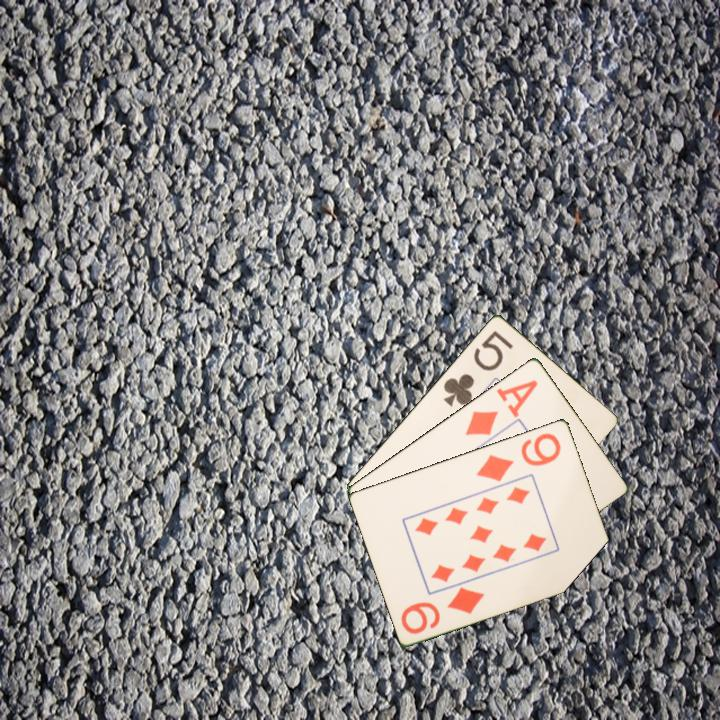5c: (440, 327, 516, 410)
9d: (473, 429, 564, 484), (397, 583, 488, 637)
Ad: (462, 376, 541, 438)
